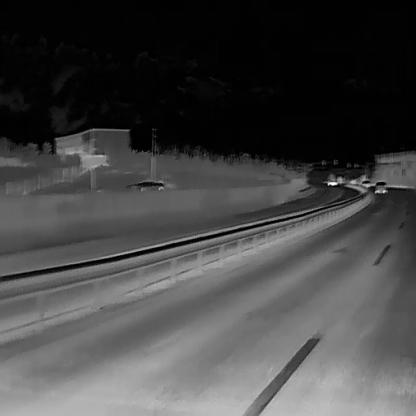car: (373, 180, 387, 194), (360, 178, 371, 188)
truck: (327, 173, 337, 186)
